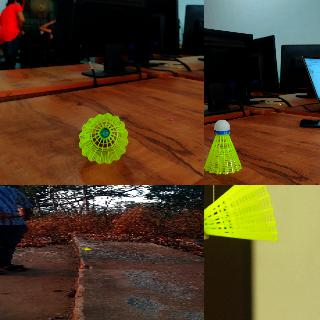shuttlecock: (204, 185, 279, 241), (76, 114, 128, 162), (204, 119, 243, 174), (81, 247, 94, 250)
